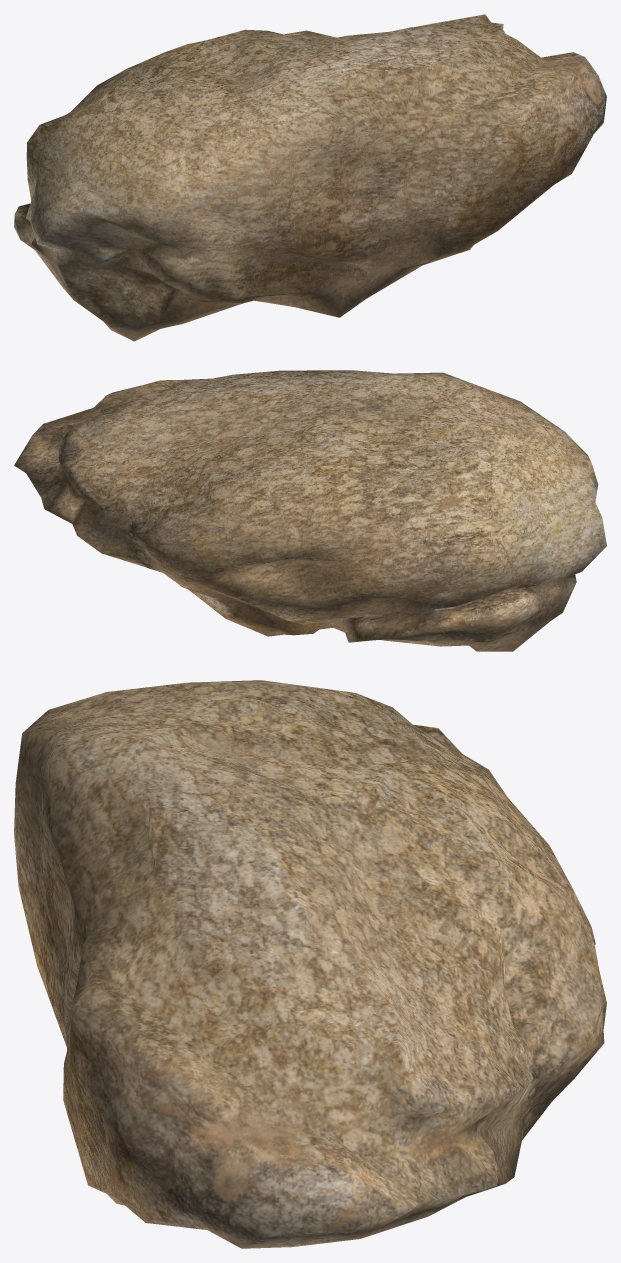
Rendered from 4. moon_rock.fbx.
3 renders of one model, top to bottom at view 1: azimuth 30°, elevation 25°; view 2: azimuth 150°, elevation 25°; view 3: azimuth 270°, elevation 25°, orthographic. The views are drawn at different scales.
Visible parts, largest first — view 1: 4. moon_rock; view 2: 4. moon_rock; view 3: 4. moon_rock.
Boxes of the visible parts, left/top/right/bottom form: 4. moon_rock: left=14, top=14, right=606, bottom=341; 4. moon_rock: left=14, top=370, right=606, bottom=651; 4. moon_rock: left=14, top=680, right=606, bottom=1248.
Bounding box in the file's own units: 28.29 × 10.95 × 15.32.
Materials: 1 (1 with a texture image).
